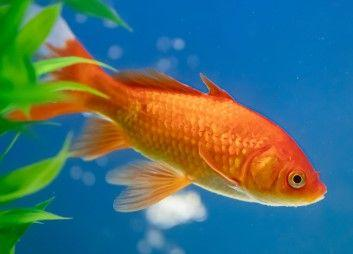Gold Fish: (8, 5, 329, 215)
